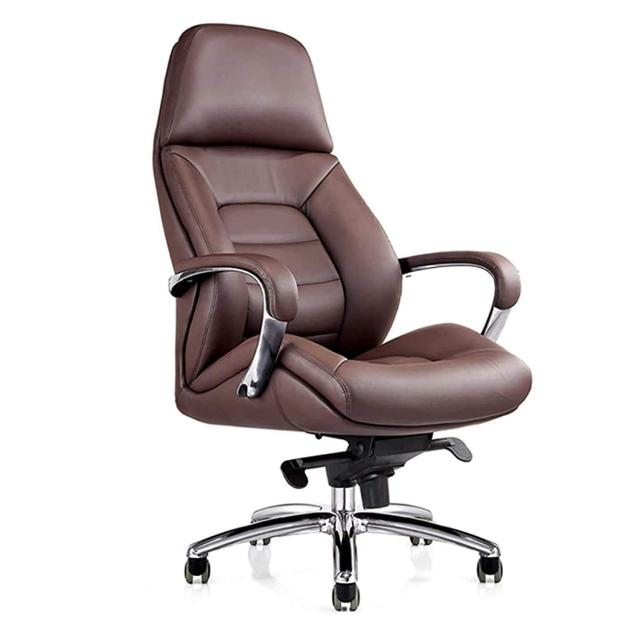chair: (151, 21, 533, 612)
